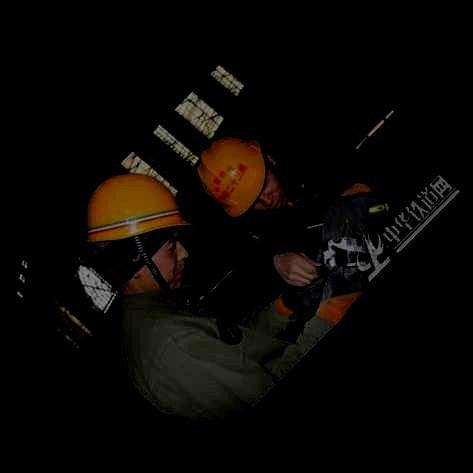helmet: (84, 172, 194, 296), (197, 136, 283, 219)
